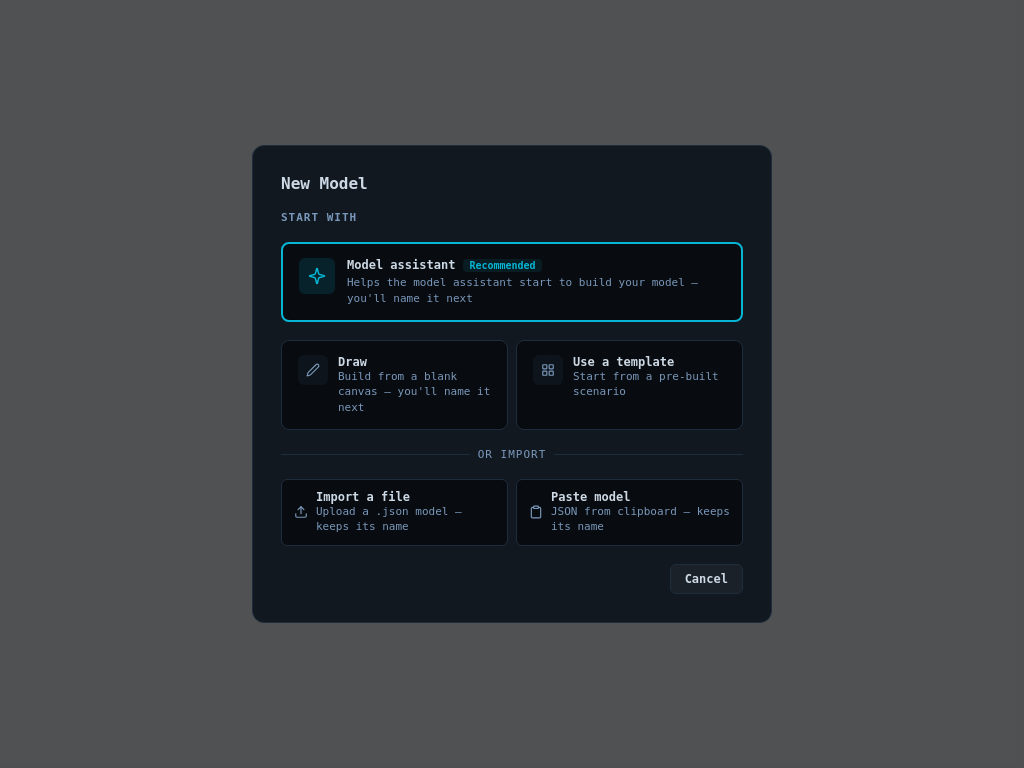
Test case: NewModelModal › reveals a name step only after Model assistant is clicked
Expected: the field with placeholder "e.g. Queue with Reneging" is not shown
Click the button "Model assistant" at (512, 282), box [281, 242, 743, 322]
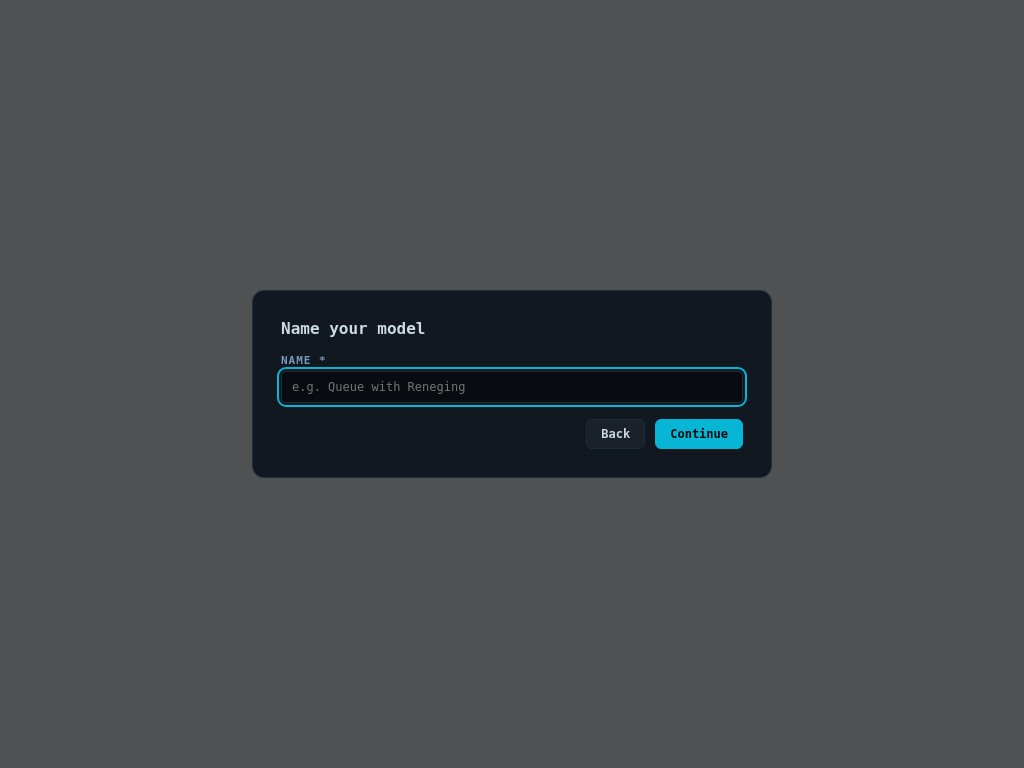
Expected: the field with placeholder "e.g. Queue with Reneging" is shown, [281, 371, 743, 403]
Expected: the button "Continue" is shown, [655, 419, 743, 449]
